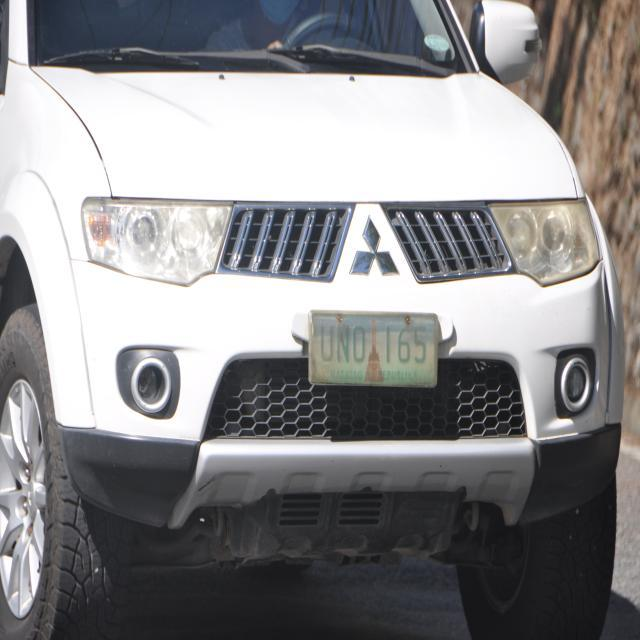LicensePlate: (303, 300, 447, 395)
